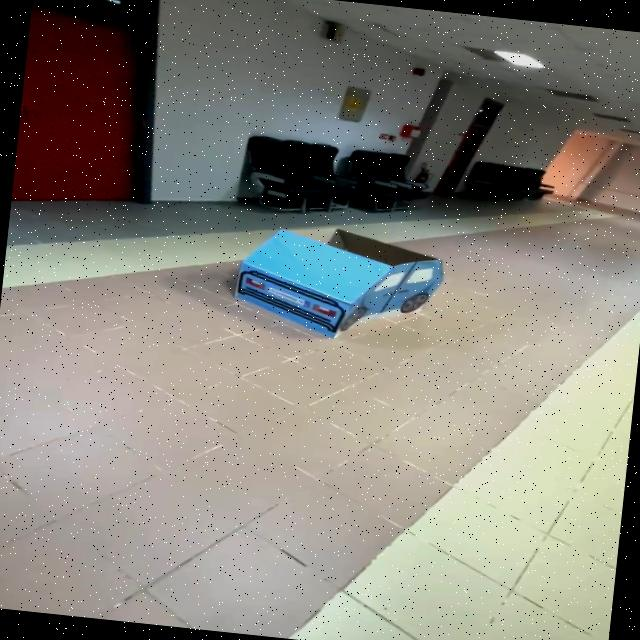blue_car: (196, 202, 504, 366)
